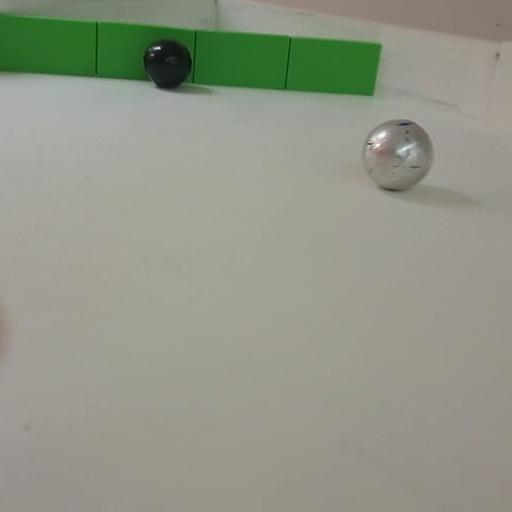alive: (361, 120, 433, 192)
dead: (143, 40, 193, 90)
